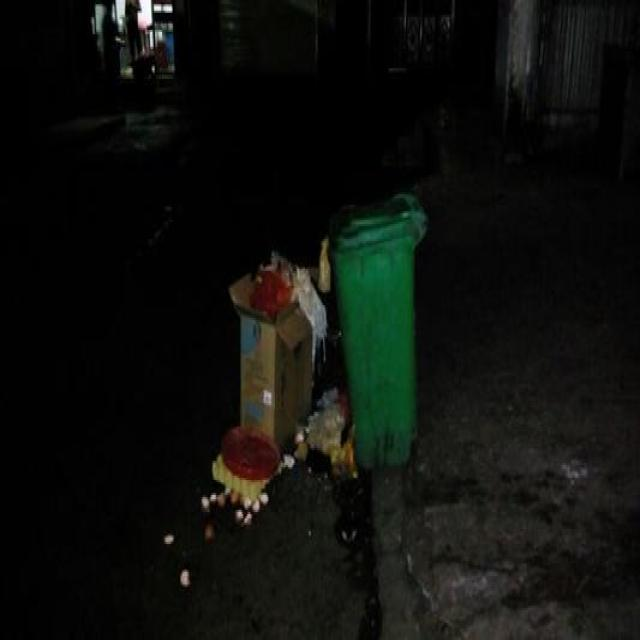garbage: (164, 233, 356, 586)
garbage_bin: (332, 192, 426, 469)
